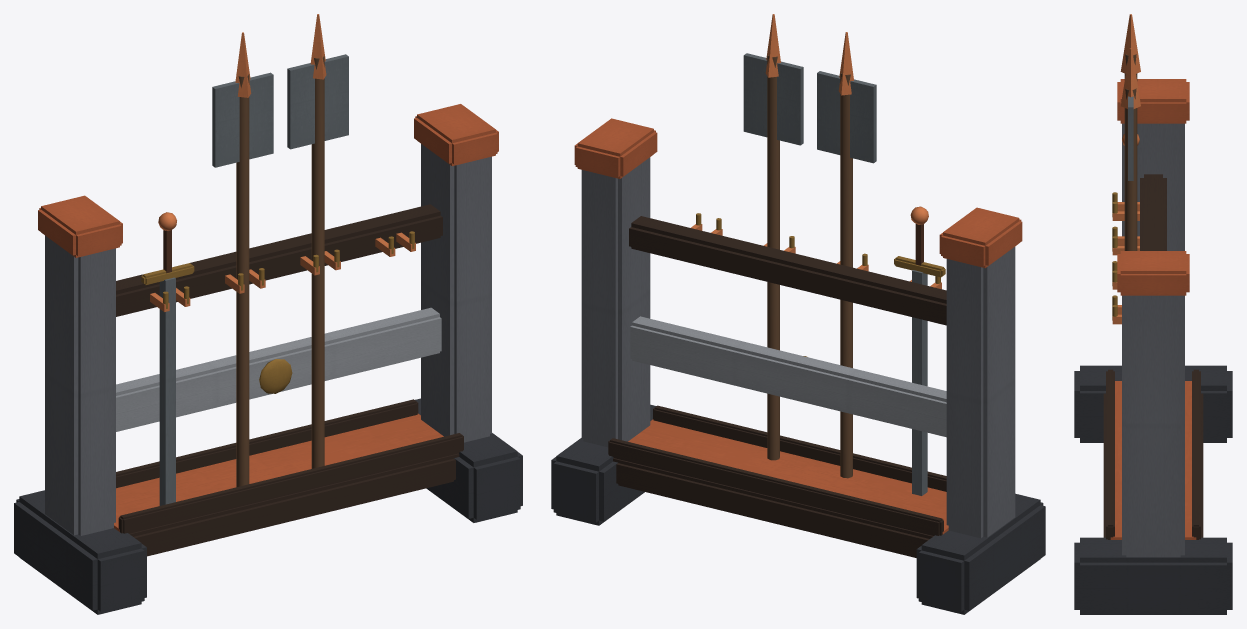
File: weapon_rack_stone_copper.glb
The picture shows the model from 3 angles, left to right: view 1: azimuth 30°, elevation 25°; view 2: azimuth 150°, elevation 25°; view 3: azimuth 270°, elevation 25°; orthographic projection. The views are drawn at different scales.
Parts seen in each view (by area): view 1: weapon_rack_stone_copper; view 2: weapon_rack_stone_copper; view 3: weapon_rack_stone_copper.
Boxes of the visible parts, <box> form: weapon_rack_stone_copper: <box>14,14,522,614</box>; weapon_rack_stone_copper: <box>551,14,1045,614</box>; weapon_rack_stone_copper: <box>1074,14,1232,614</box>.
Bounding box in the file's own units: 2.06 × 2.38 × 0.7.
Materials: 1 (1 with a texture image).
